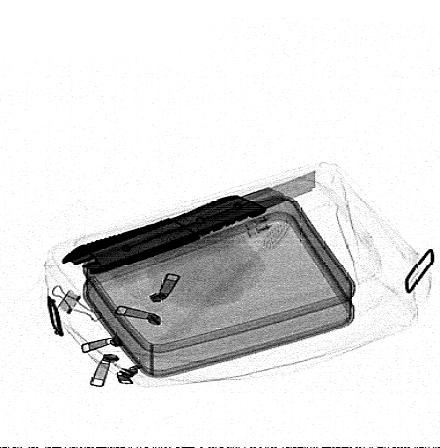Knife: (61, 168, 316, 275)
